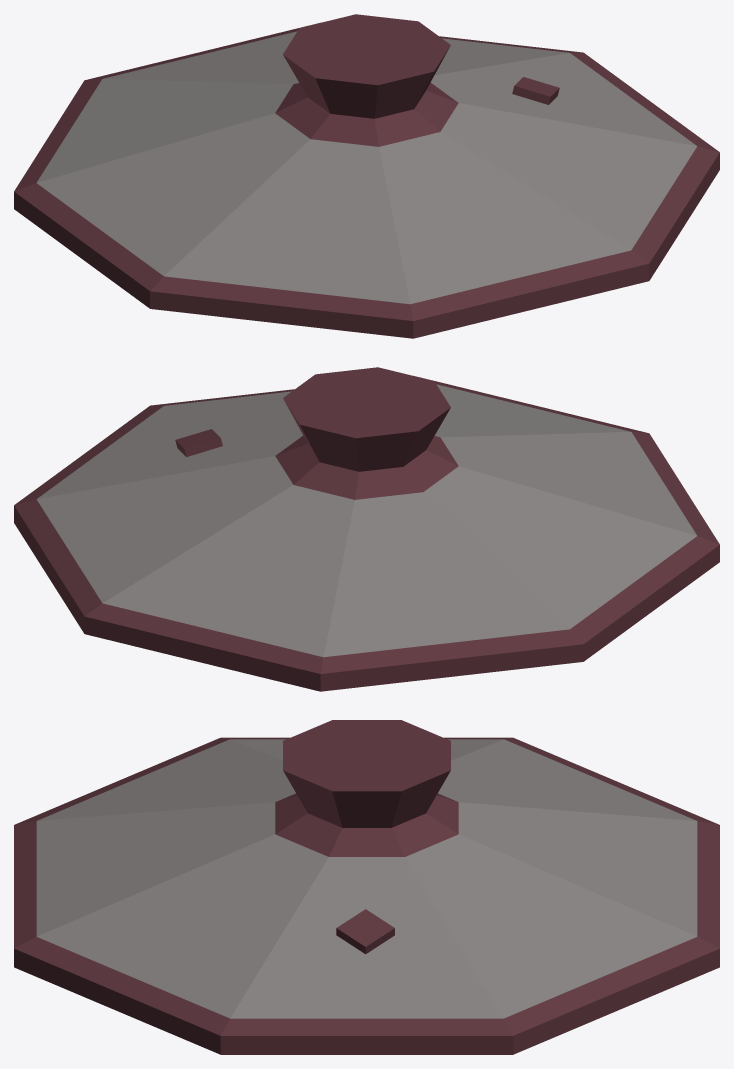
The model's file is lid-medium.fbx.
3 renders of one model, top to bottom at view 1: azimuth 30°, elevation 25°; view 2: azimuth 150°, elevation 25°; view 3: azimuth 270°, elevation 25°, orthographic. The views are drawn at different scales.
Visible parts, largest first — view 1: lid-medium; view 2: lid-medium; view 3: lid-medium.
Boxes of the visible parts, <box> form: lid-medium: <box>14,14,719,338</box>; lid-medium: <box>14,367,719,691</box>; lid-medium: <box>14,720,719,1054</box>.
Size of the model in its own units: 0.2185 by 0.0512 by 0.2184.
